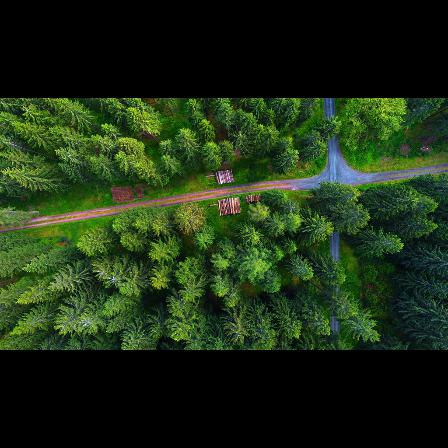Sick: (105, 271, 123, 290)
